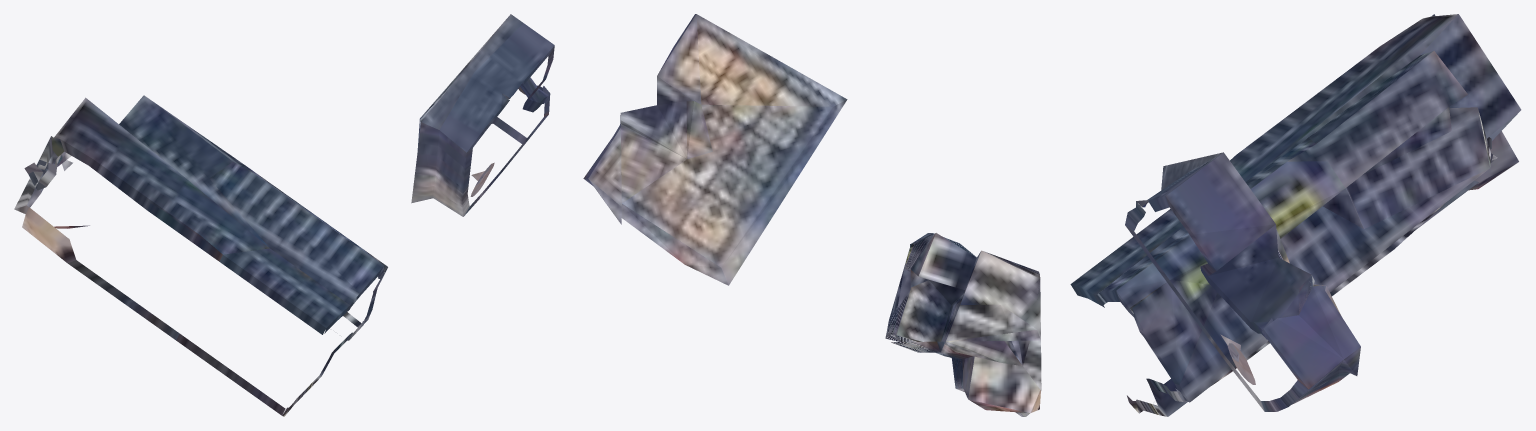
The picture shows the model from 3 angles, left to right: view 1: azimuth 30°, elevation 25°; view 2: azimuth 150°, elevation 25°; view 3: azimuth 270°, elevation 25°; orthographic projection. The views are drawn at different scales.
Bounding box in the file's own units: 104 × 66.74 × 63.02.
1 material, 1 textured.
